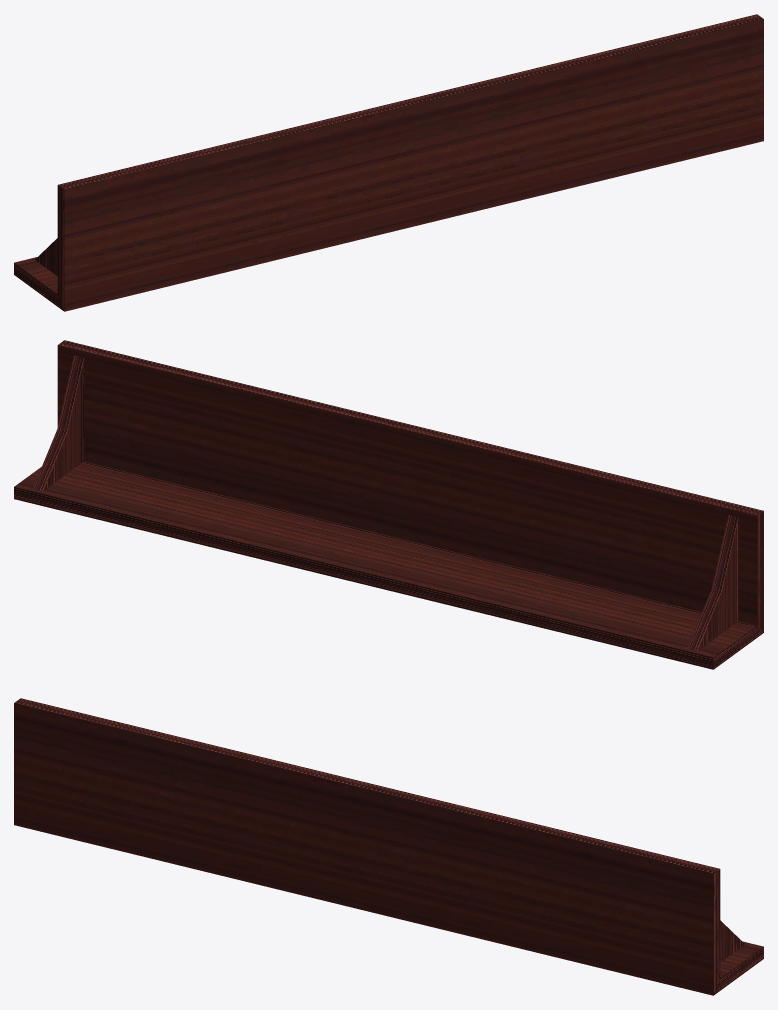
The model's file is shelf_mantle_med.fbx.
3 views of the same model, one above another, from view 1: azimuth 30°, elevation 25°; view 2: azimuth 150°, elevation 25°; view 3: azimuth 330°, elevation 25° (orthographic).
Parts seen in each view (by area): view 1: mesh_0; view 2: mesh_0; view 3: mesh_0.
Part boxes in pixels (x1,y1,x2,y2): mesh_0: (14,14,763,311); mesh_0: (14,340,763,669); mesh_0: (14,698,763,995).
Size of the model in its own units: 120 by 20 by 15.
1 material, 1 textured.
